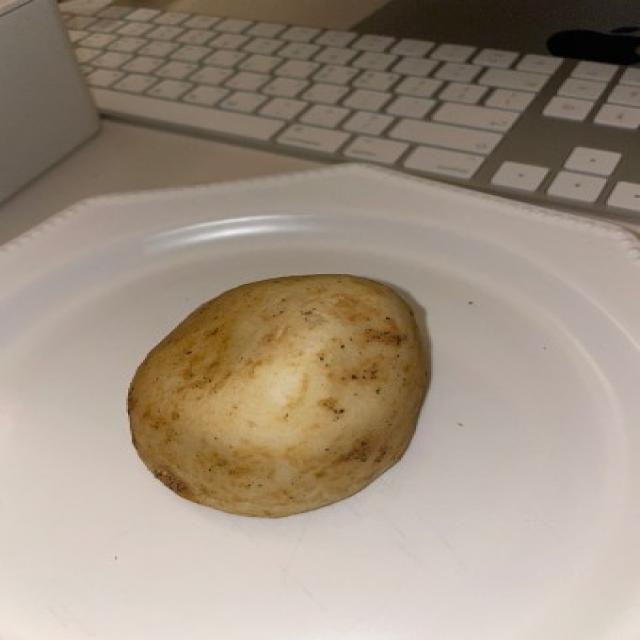potato: (120, 268, 443, 528)
